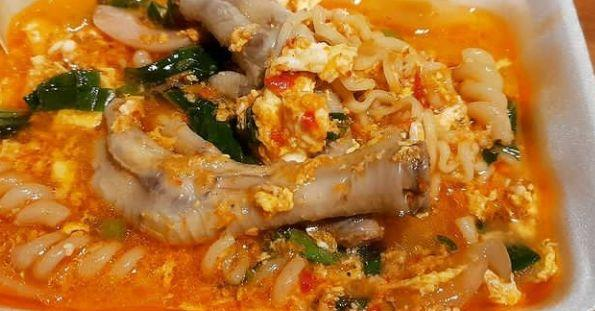seblak: (1, 2, 561, 311)
